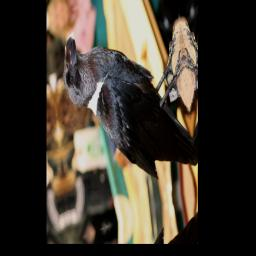Crow: (58, 0, 195, 219)
